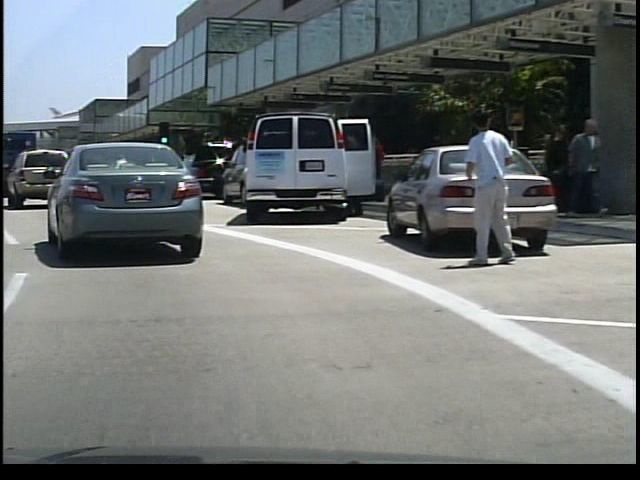person: (458, 105, 514, 269), (562, 116, 599, 219), (539, 119, 564, 218), (363, 129, 386, 196)
